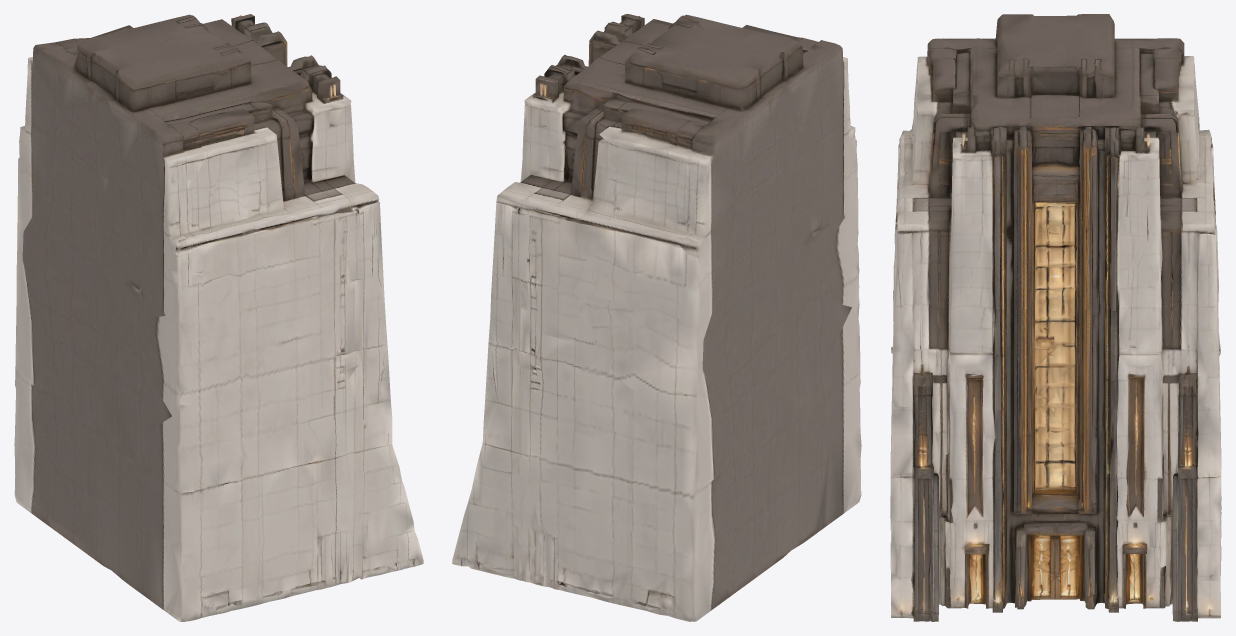
The model's file is portalTower.glb.
3 renders of one model, left to right at view 1: azimuth 30°, elevation 25°; view 2: azimuth 150°, elevation 25°; view 3: azimuth 270°, elevation 25°, orthographic.
Visible parts, largest first — view 1: portalTower; view 2: portalTower; view 3: portalTower.
Boxes of the visible parts, left/top/right/bottom form: portalTower: left=14, top=14, right=423, bottom=621; portalTower: left=452, top=14, right=861, bottom=621; portalTower: left=890, top=14, right=1221, bottom=621.
Bounding box in the file's own units: 24 × 46 × 28.
1 material, 1 textured.
